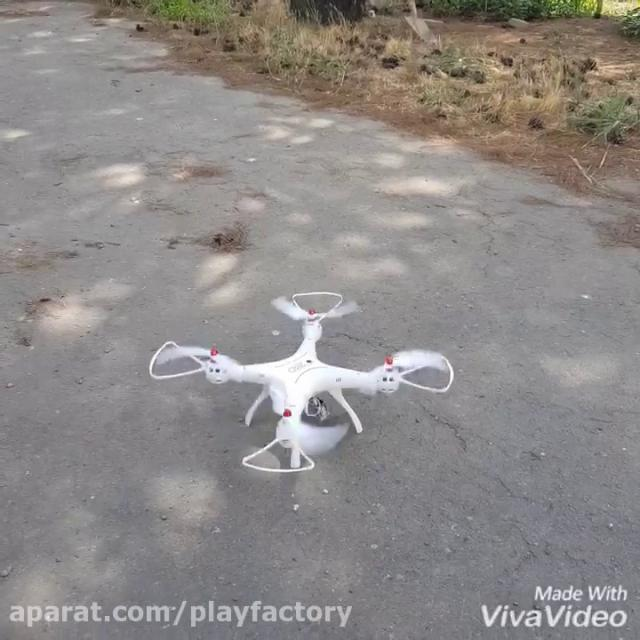drone: (146, 287, 457, 477)
